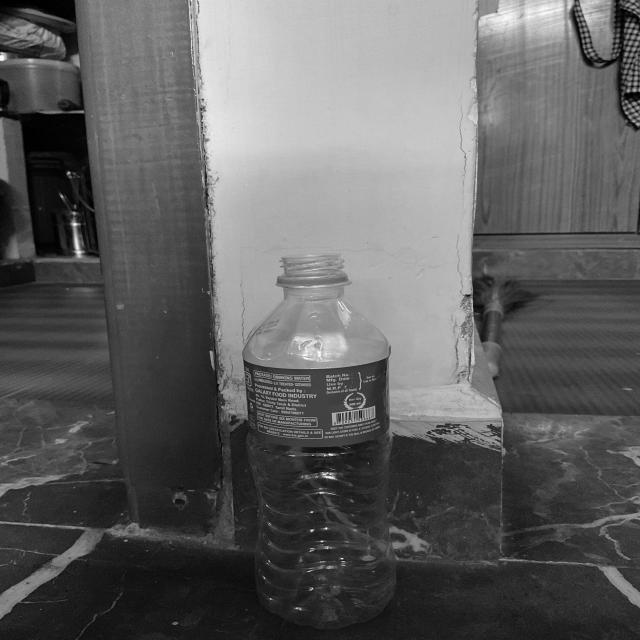open-cap: (276, 252, 352, 286)
